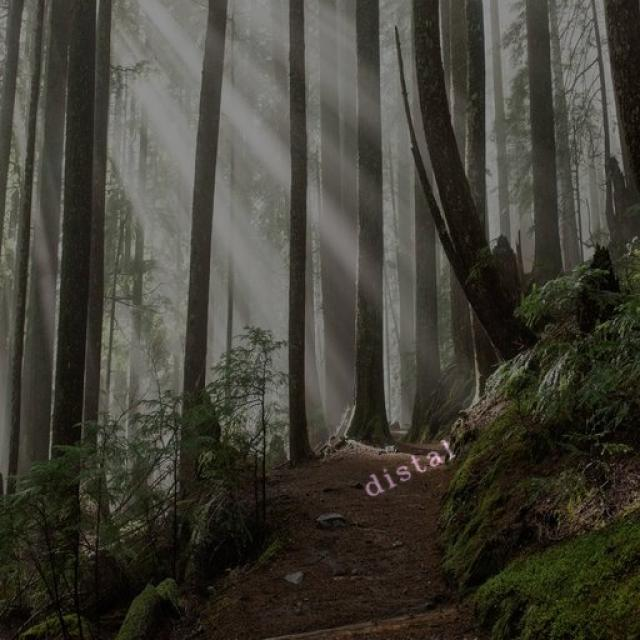watermark: (360, 432, 458, 502)
